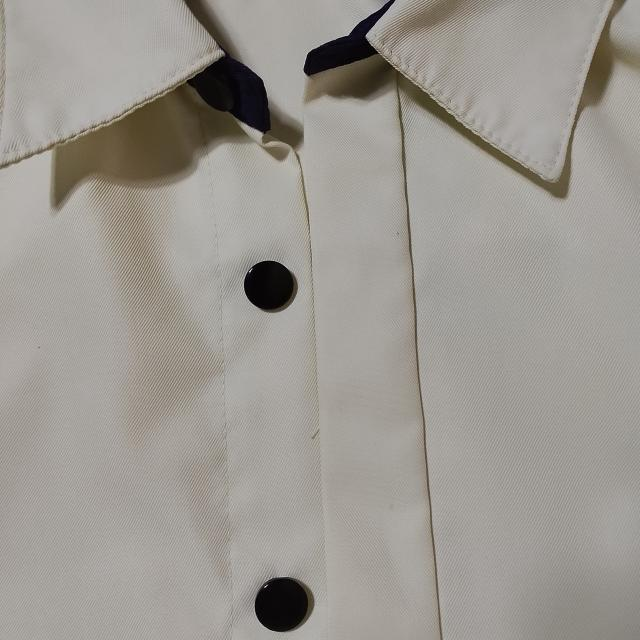education_male_uniform: (7, 0, 640, 344), (0, 0, 306, 597)
